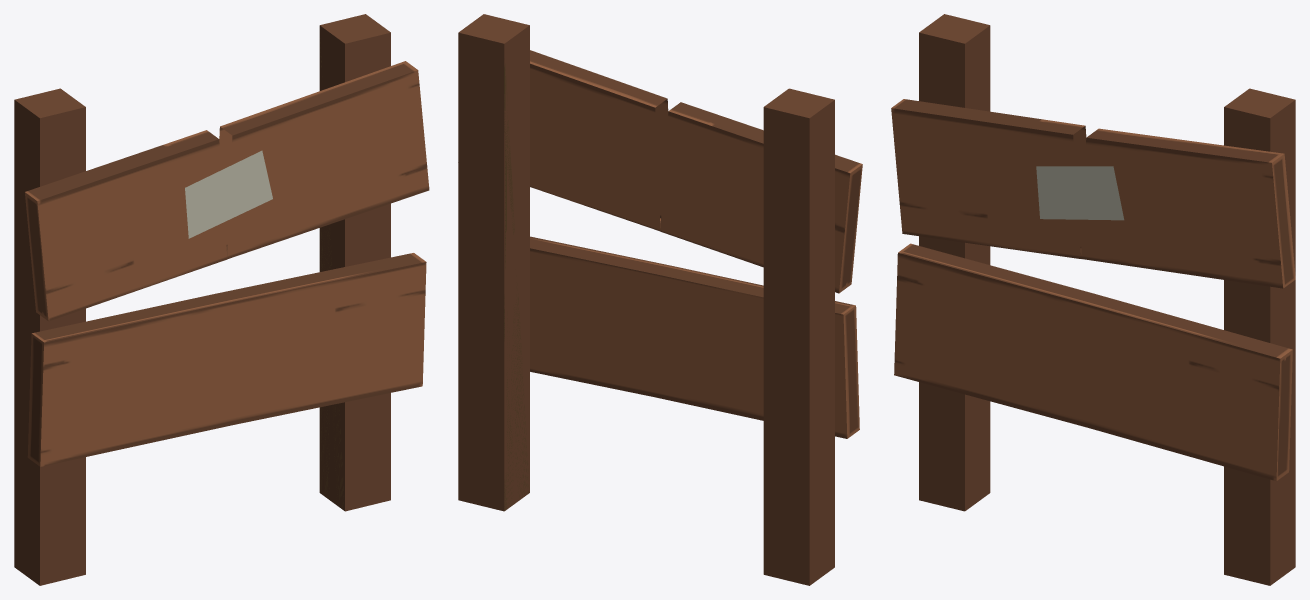
Rendered from BreakableObstackle.glb.
3 views of the same model, side by side, from view 1: azimuth 30°, elevation 25°; view 2: azimuth 150°, elevation 25°; view 3: azimuth 330°, elevation 25° (orthographic).
Visible parts, largest first — view 1: Breakeble OBstacle.005, Breakeble OBstacle.004, Breakeble OBstacle.001, Breakeble OBstacle.002, Breakeble OBstacle, Breakeble OBstacle.006, Breakeble OBstacle.003; view 2: Breakeble OBstacle, Breakeble OBstacle.006, Breakeble OBstacle.001, Breakeble OBstacle.005, Breakeble OBstacle.004, Breakeble OBstacle.002; view 3: Breakeble OBstacle.004, Breakeble OBstacle.001, Breakeble OBstacle.005, Breakeble OBstacle.002, Breakeble OBstacle.006, Breakeble OBstacle, Breakeble OBstacle.003.
Boxes of the visible parts, x1,y1,x2,y2 form: Breakeble OBstacle.005: (27,294,233,466); Breakeble OBstacle.004: (215,253,426,424); Breakeble OBstacle.001: (219,61,429,259); Breakeble OBstacle.002: (25,130,227,321); Breakeble OBstacle: (14,88,85,585); Breakeble OBstacle.006: (319,14,390,511); Breakeble OBstacle.003: (185,150,272,238); Breakeble OBstacle: (763,88,834,585); Breakeble OBstacle.006: (458,14,529,511); Breakeble OBstacle.001: (530,50,668,231); Breakeble OBstacle.005: (654,266,859,438); Breakeble OBstacle.004: (530,236,671,396); Breakeble OBstacle.002: (660,102,862,293); Breakeble OBstacle.004: (1081,293,1292,481); Breakeble OBstacle.001: (1081,128,1295,288); Breakeble OBstacle.005: (894,243,1093,427); Breakeble OBstacle.002: (891,99,1086,258); Breakeble OBstacle.006: (1224,88,1295,585); Breakeble OBstacle: (919,14,990,511); Breakeble OBstacle.003: (1036,166,1124,220).
Bounding box in the file's own units: 1.4 × 1.59 × 0.2424.
Materials: 2 (2 with a texture image).
